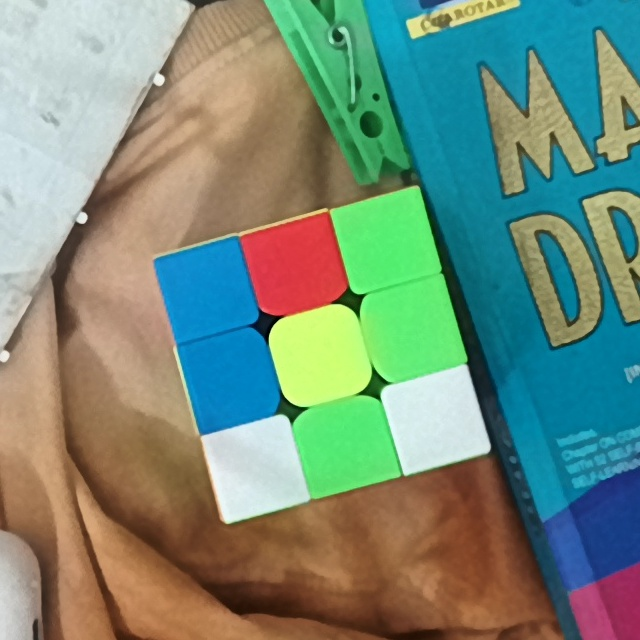tile: (257, 230, 331, 301), (347, 207, 423, 275), (287, 320, 358, 392), (311, 410, 382, 481), (378, 294, 448, 366), (202, 344, 269, 412), (227, 431, 291, 502), (403, 385, 469, 453), (177, 255, 240, 320)
